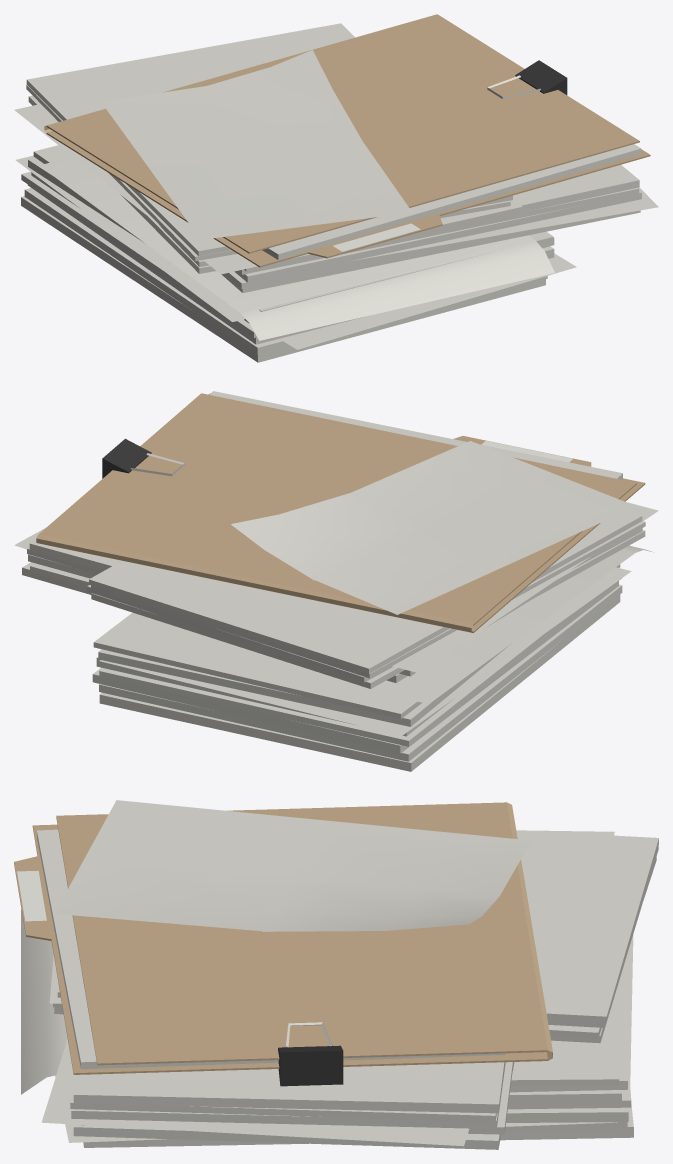
Rendered from Kit_PaperStack.fbx.
The picture shows the model from 3 angles, top to bottom: view 1: azimuth 30°, elevation 25°; view 2: azimuth 150°, elevation 25°; view 3: azimuth 270°, elevation 25°; orthographic projection. The views are drawn at different scales.
Visible parts, largest first — view 1: Kit_PaperStack; view 2: Kit_PaperStack; view 3: Kit_PaperStack.
Part boxes in pixels (x1,y1,x2,y2): Kit_PaperStack: [14, 14, 658, 362]; Kit_PaperStack: [14, 391, 658, 771]; Kit_PaperStack: [14, 800, 658, 1149].
Size of the model in its own units: 0.3459 by 0.0987 by 0.3269.
